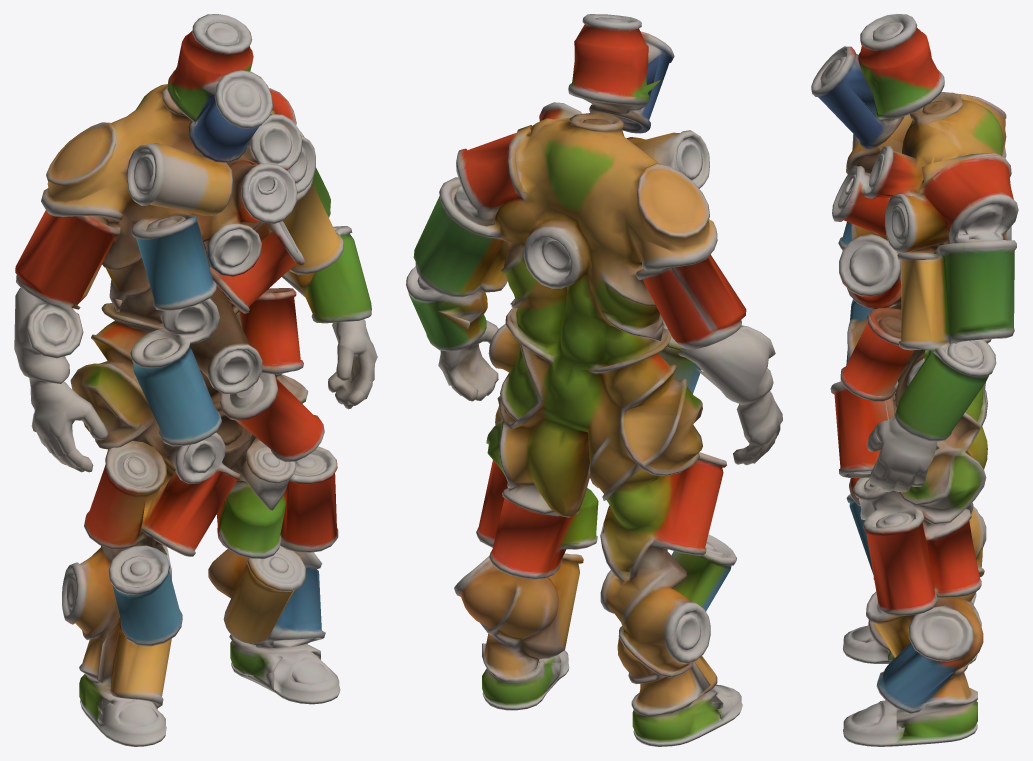
File: Inside__CanMan2.cluster.glb
3 views of the same model, side by side, from view 1: azimuth 30°, elevation 25°; view 2: azimuth 150°, elevation 25°; view 3: azimuth 270°, elevation 25° (orthographic).
Visible parts, largest first — view 1: CanMan2; view 2: CanMan2; view 3: CanMan2.
Boxes of the visible parts, x1=… form: CanMan2: x1=14, y1=14, x2=377, y2=746; CanMan2: x1=406, y1=14, x2=782, y2=746; CanMan2: x1=811, y1=14, x2=1018, y2=746.
Size of the model in its own units: 0.9998 by 1.89 by 0.5272.
1 material, 1 textured.
